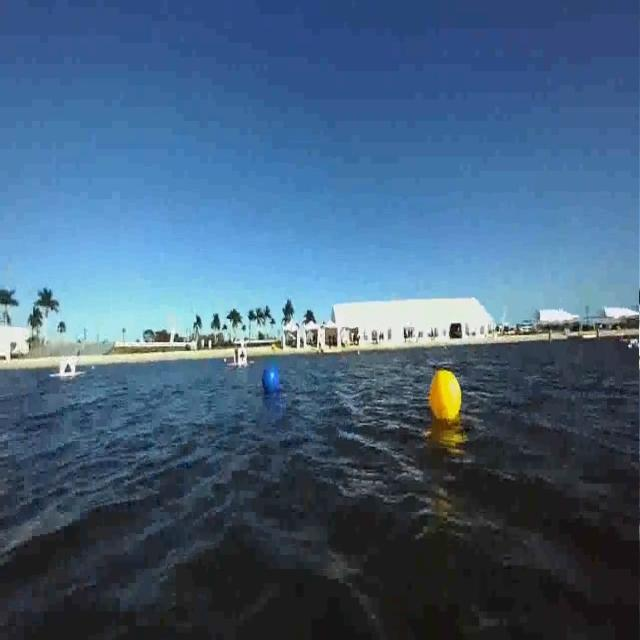blue-buoy: (258, 358, 281, 397)
yellow-buoy: (422, 372, 466, 430)
